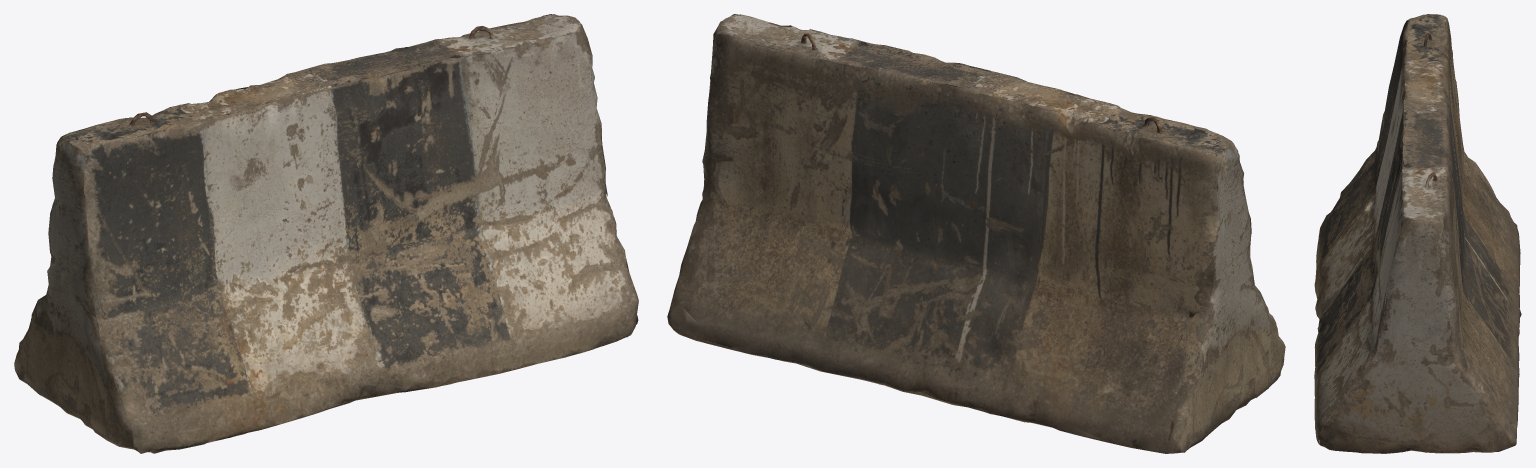
Rendered from road_barrier.glb.
3 renders of one model, left to right at view 1: azimuth 30°, elevation 25°; view 2: azimuth 150°, elevation 25°; view 3: azimuth 270°, elevation 25°, orthographic. The views are drawn at different scales.
Parts seen in each view (by area): view 1: concrete_road_barrier; view 2: concrete_road_barrier; view 3: concrete_road_barrier.
Boxes of the visible parts, <box> form: concrete_road_barrier: <box>14,14,638,453</box>; concrete_road_barrier: <box>667,14,1285,453</box>; concrete_road_barrier: <box>1314,14,1521,453</box>.
Bounding box in the file's own units: 1.54 × 0.8328 × 0.6359.
Materials: 1 (1 with a texture image).
